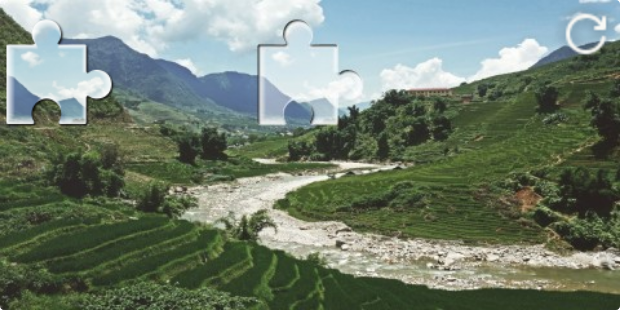target: (259, 20, 362, 126)
